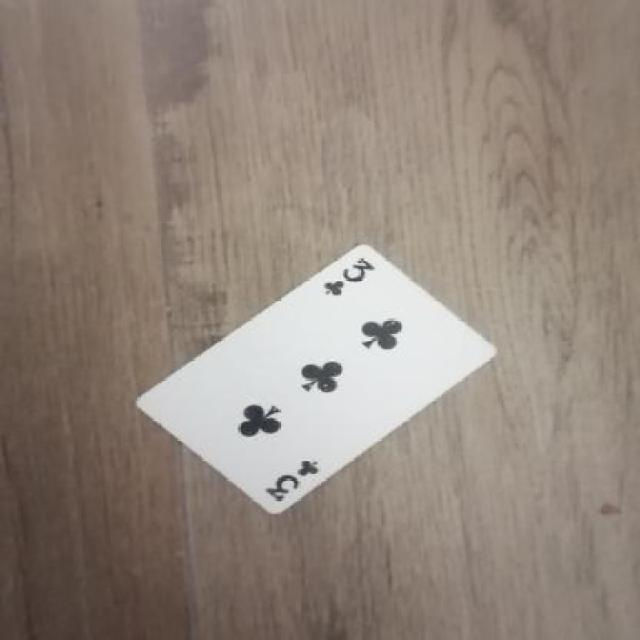3C: (259, 446, 332, 502), (322, 256, 382, 302)
